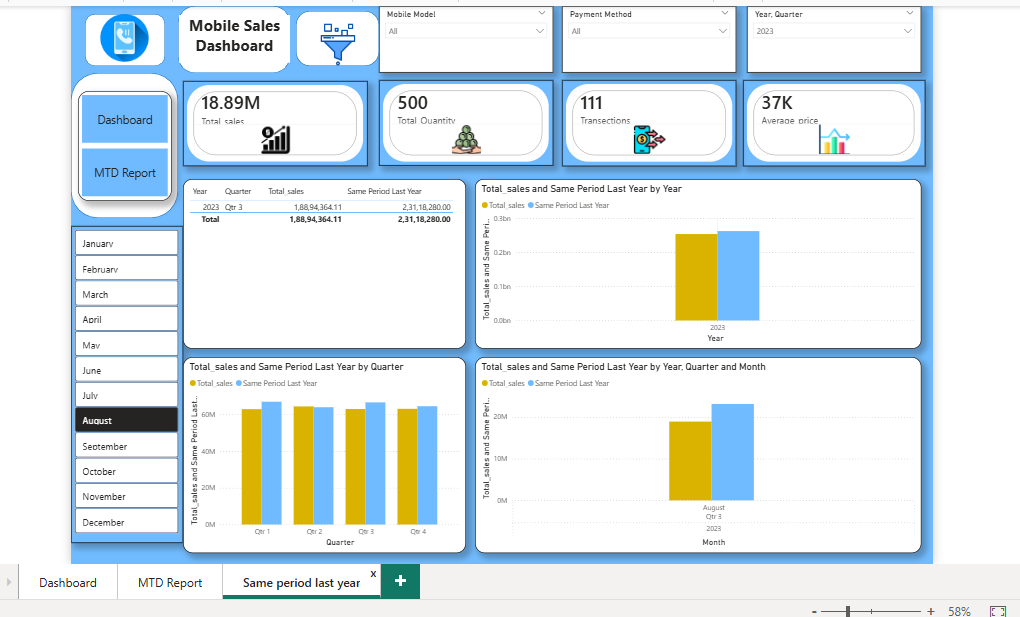

This screenshot's page, from the dashboard's own definition file:
{"tool":"powerbi","page":{"name":"Same period last year","canvas":[1500,970],"ordinal":2},"visuals":[{"type":"shape","box":[24.3,13.9,139.1,90.4],"z":0},{"type":"image","box":[0,13.9,186,83.4],"z":1000},{"type":"shape","box":[0,116.5,186,252.1],"z":2000},{"type":"cardVisual","fields":{"Data":["Sales_Data.Total_Quantity"]},"box":[536.1,128.3,302.5,149.3],"z":3000},{"type":"cardVisual","fields":{"Data":["Sales_Data.Transections"]},"box":[854.3,128,303.1,149.6],"z":4000},{"type":"cardVisual","fields":{"Data":["Sales_Data.Average_price"]},"box":[1167.3,128,316.9,149.6],"z":5000},{"type":"cardVisual","fields":{"Data":["Sales_Data.Total_sales"]},"box":[194.9,129.9,320.9,147.6],"z":6000},{"type":"slicer","fields":{"Values":["Sales_Data.Mobile Model"]},"box":[535.4,0,303.1,116.1],"z":7000},{"type":"slicer","fields":{"Values":["Sales_Data.Payment Method"]},"box":[854.3,0,303.1,116.1],"z":8000},{"type":"slicer","fields":{"Values":["Custom_calender.Date.Variation.Date Hierarchy.Year","Custom_calender.Date.Variation.Date Hierarchy.Quarter"]},"box":[1175.2,0,303.1,116.1],"z":9000},{"type":"shape","box":[391.1,8.7,144.3,95.6],"z":10000},{"type":"image","box":[365.1,29.6,198.2,74.7],"z":11000},{"type":"shape","box":[186,0,194.7,116.5],"z":12000},{"type":"textbox","box":[187.7,15.6,193,83.4],"z":13000},{"type":"advancedSlicerVisual","fields":{"Values":["Custom_calender.Date.Variation.Date Hierarchy.Month"]},"box":[0,382.4,194.7,551.1],"z":14000},{"type":"tableEx","fields":{"Values":["Custom_calender.Date.Variation.Date Hierarchy.Year","Custom_calender.Date.Variation.Date Hierarchy.Quarter","Sales_Data.Total_sales","Sales_Data.Same Period Last Year"]},"box":[194.9,301.2,492.1,295.3],"z":15000},{"type":"clusteredColumnChart","fields":{"Category":["Custom_calender.Date.Variation.Date Hierarchy.Year","Custom_calender.Date.Variation.Date Hierarchy.Quarter"],"Y":["Sales_Data.Total_sales","Sales_Data.Same Period Last Year"]},"box":[702.8,301.2,775.6,295.3],"z":16000},{"type":"clusteredColumnChart","fields":{"Y":["Sales_Data.Total_sales","Sales_Data.Same Period Last Year"],"Category":["Custom_calender.Date.Variation.Date Hierarchy.Year","Custom_calender.Date.Variation.Date Hierarchy.Quarter","Custom_calender.Date.Variation.Date Hierarchy.Month","Custom_calender.Date.Variation.Date Hierarchy.Day"]},"box":[702.8,610.2,775.6,340.6],"z":17000},{"type":"clusteredColumnChart","fields":{"Category":["Custom_calender.Date.Variation.Date Hierarchy.Year","Custom_calender.Date.Variation.Date Hierarchy.Quarter"],"Y":["Sales_Data.Total_sales","Sales_Data.Same Period Last Year"]},"box":[194.9,610.2,492.1,340.6],"z":18000},{"type":"pageNavigator","box":[0,0,600,50],"z":19000},{"type":"bookmarkNavigator","box":[0,0,600,50],"z":20000},{"type":"pageNavigator","box":[0,0,600,50],"z":21000},{"type":"pageNavigator","box":[12.2,147.8,163.4,191.2],"z":22000}]}

Visuals, with their boxes on the page's 1500x970 design canvas (x1, y1, x2, y2). These are canvas units, not pixel positions in the 1020x617 screenshot, which may show the page scaled, cropped or inside an application window:
shape: 24 14 163 104
image: 0 14 186 97
shape: 0 116 186 369
cardVisual - Sales_Data.Total_Quantity: 536 128 839 278
cardVisual - Sales_Data.Transections: 854 128 1157 278
cardVisual - Sales_Data.Average_price: 1167 128 1484 278
cardVisual - Sales_Data.Total_sales: 195 130 516 278
slicer - Sales_Data.Mobile Model: 535 0 838 116
slicer - Sales_Data.Payment Method: 854 0 1157 116
slicer - Custom_calender.Date.Variation.Date Hierarchy.Year x Custom_calender.Date.Variation.Date Hierarchy.Quarter: 1175 0 1478 116
shape: 391 9 535 104
image: 365 30 563 104
shape: 186 0 381 116
textbox: 188 16 381 99
advancedSlicerVisual - Custom_calender.Date.Variation.Date Hierarchy.Month: 0 382 195 934
tableEx - Custom_calender.Date.Variation.Date Hierarchy.Year x Custom_calender.Date.Variation.Date Hierarchy.Quarter: 195 301 687 596
clusteredColumnChart - Custom_calender.Date.Variation.Date Hierarchy.Year x Custom_calender.Date.Variation.Date Hierarchy.Quarter: 703 301 1478 596
clusteredColumnChart - Sales_Data.Total_sales x Sales_Data.Same Period Last Year: 703 610 1478 951
clusteredColumnChart - Custom_calender.Date.Variation.Date Hierarchy.Year x Custom_calender.Date.Variation.Date Hierarchy.Quarter: 195 610 687 951
pageNavigator: 0 0 600 50
bookmarkNavigator: 0 0 600 50
pageNavigator: 0 0 600 50
pageNavigator: 12 148 176 339
